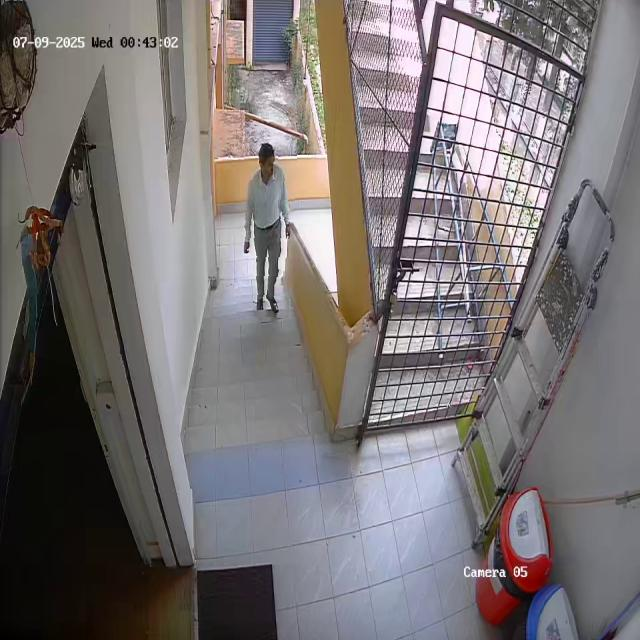person: (238, 138, 295, 318)
